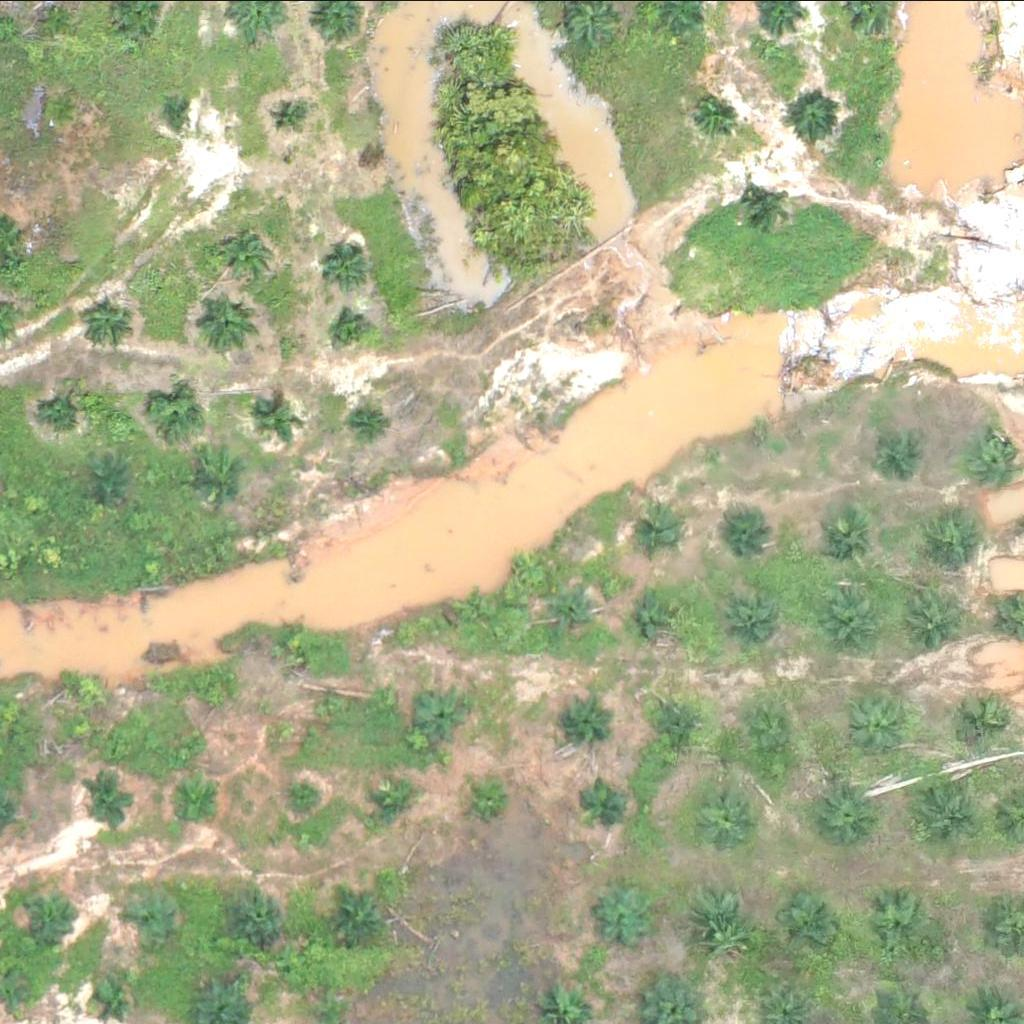Kelapa_Sawit: (749, 704, 812, 767), (725, 589, 788, 652), (125, 882, 188, 945), (822, 591, 885, 654), (867, 894, 930, 957), (918, 504, 981, 567), (903, 590, 966, 653), (214, 224, 277, 287), (781, 894, 844, 956), (696, 783, 759, 845), (594, 884, 657, 946), (913, 781, 976, 843), (817, 784, 880, 846), (855, 695, 918, 757), (953, 690, 1016, 752), (813, 505, 876, 567), (694, 888, 757, 950), (196, 291, 259, 353), (232, 888, 283, 938), (335, 889, 386, 939), (367, 778, 418, 828), (23, 887, 73, 937), (724, 501, 774, 551), (555, 694, 605, 744), (580, 776, 630, 826), (550, 587, 600, 637), (419, 688, 469, 738), (635, 591, 685, 641), (634, 505, 684, 555), (792, 92, 842, 142), (870, 423, 920, 473), (688, 89, 738, 139), (744, 180, 794, 230), (659, 697, 709, 747), (44, 386, 94, 436), (153, 388, 203, 438), (86, 299, 136, 349), (322, 239, 372, 289), (87, 774, 137, 824), (177, 776, 227, 826), (203, 450, 253, 500), (457, 591, 495, 629), (468, 779, 506, 817), (258, 401, 296, 439), (349, 400, 387, 438), (332, 313, 370, 351), (309, 687, 347, 725), (196, 677, 234, 715), (71, 671, 109, 709), (269, 95, 307, 132), (271, 624, 309, 661), (45, 90, 82, 128), (91, 461, 129, 498), (290, 778, 327, 815), (98, 980, 135, 1017), (166, 101, 191, 126)
